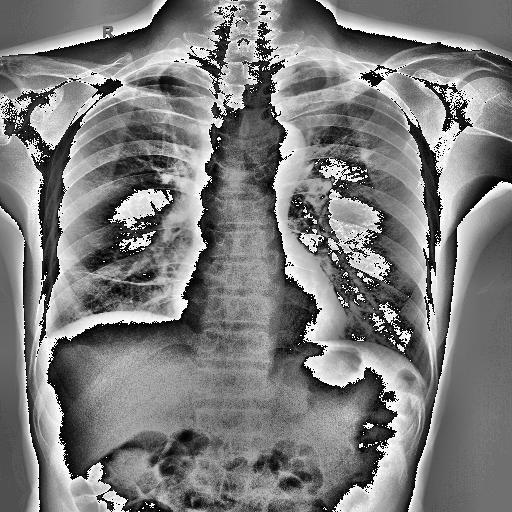10- Pleural effusion: (40, 330, 58, 341)
11- Pleural thickening: (36, 322, 58, 353), (40, 330, 58, 341)
13- Pulmonary fibrosis: (62, 266, 164, 286), (66, 269, 180, 286), (68, 268, 166, 286), (132, 100, 176, 136), (358, 138, 394, 158), (356, 146, 380, 160)
6- Infiltration: (356, 146, 390, 158)
